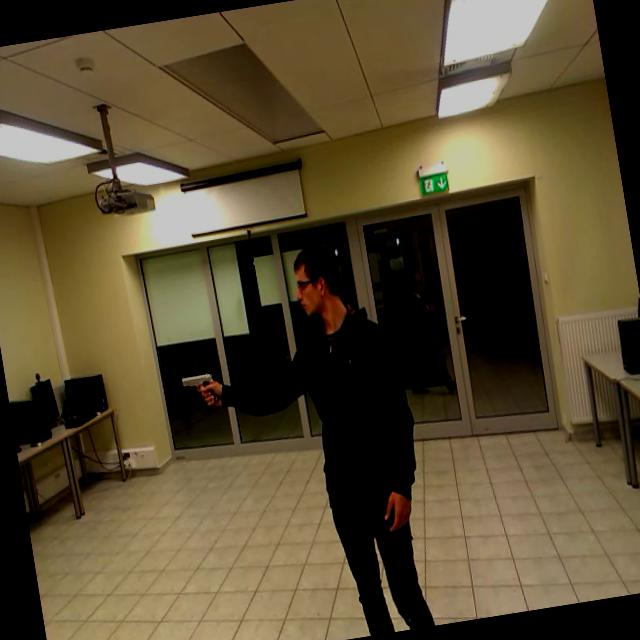handgun: (176, 361, 233, 428)
